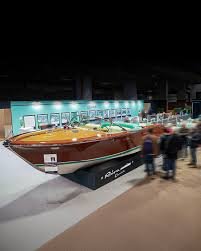boat: (3, 108, 201, 176)
